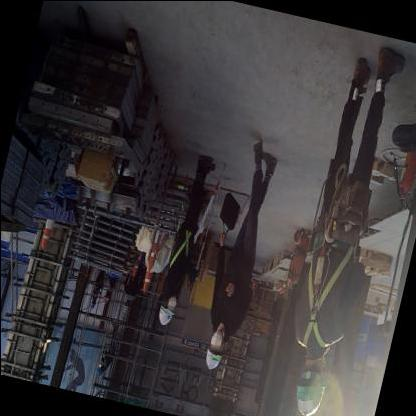Helmet: (281, 367, 333, 416), (197, 341, 226, 376), (150, 295, 178, 330)
safety-shoe: (368, 34, 409, 89), (341, 45, 375, 101)
